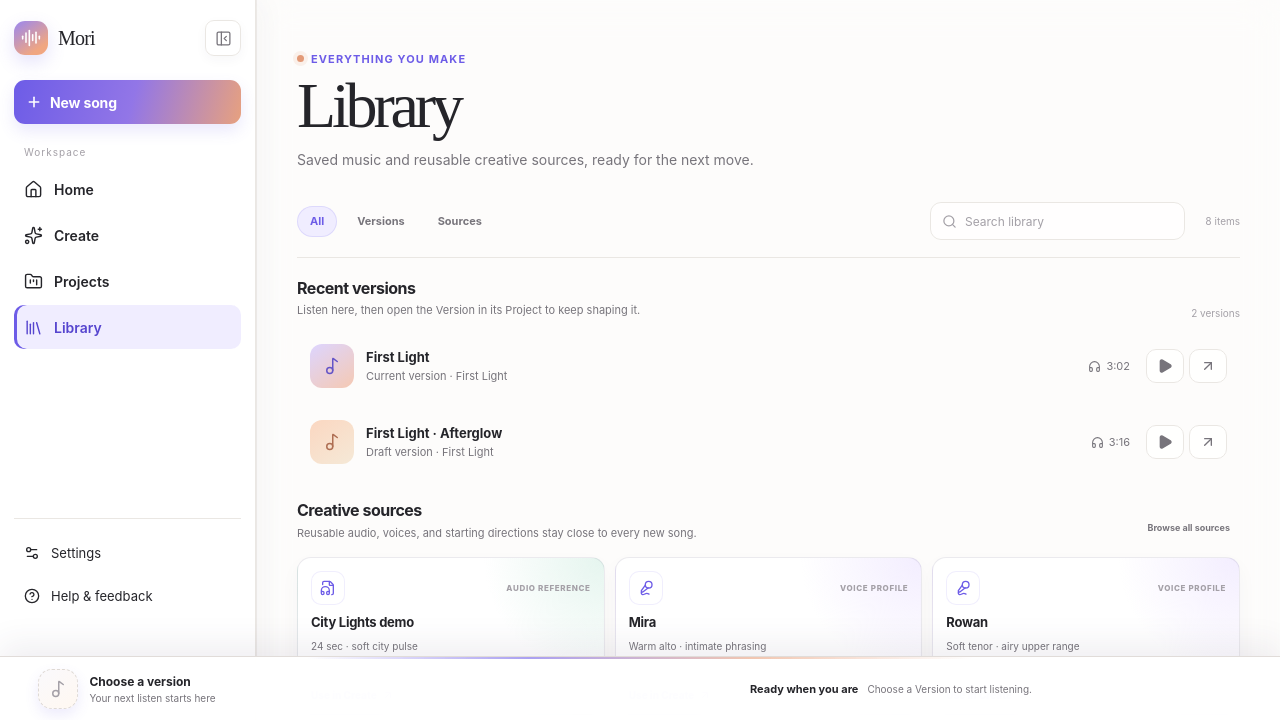
Test: Mori catalog surfaces › keeps a preview version honest while opening its studio
Click the button named "Play First Light".
click(1165, 366)  # box [1146,349,1184,383]
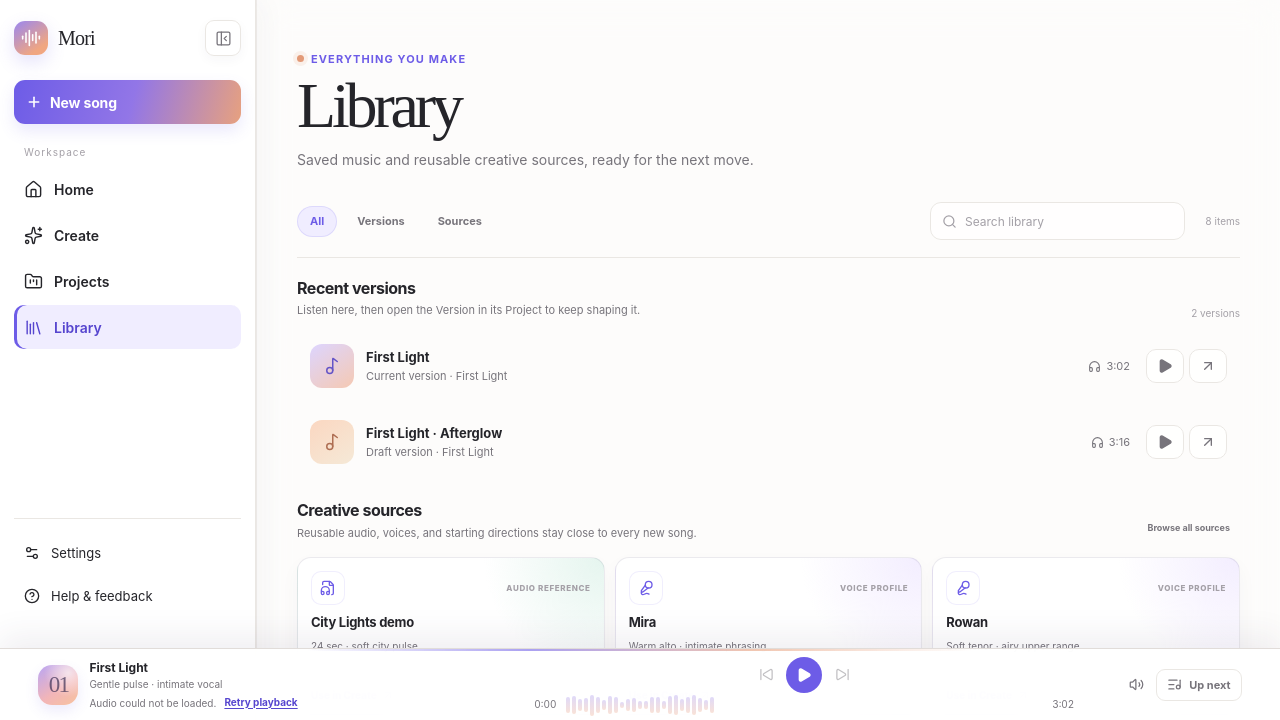
Expected: the element named "Global player" does not show "Preview audio is unavailable", [0,648,1279,719]
Result: the element named "Global player" shows "First Light" at [89,660,148,675]
